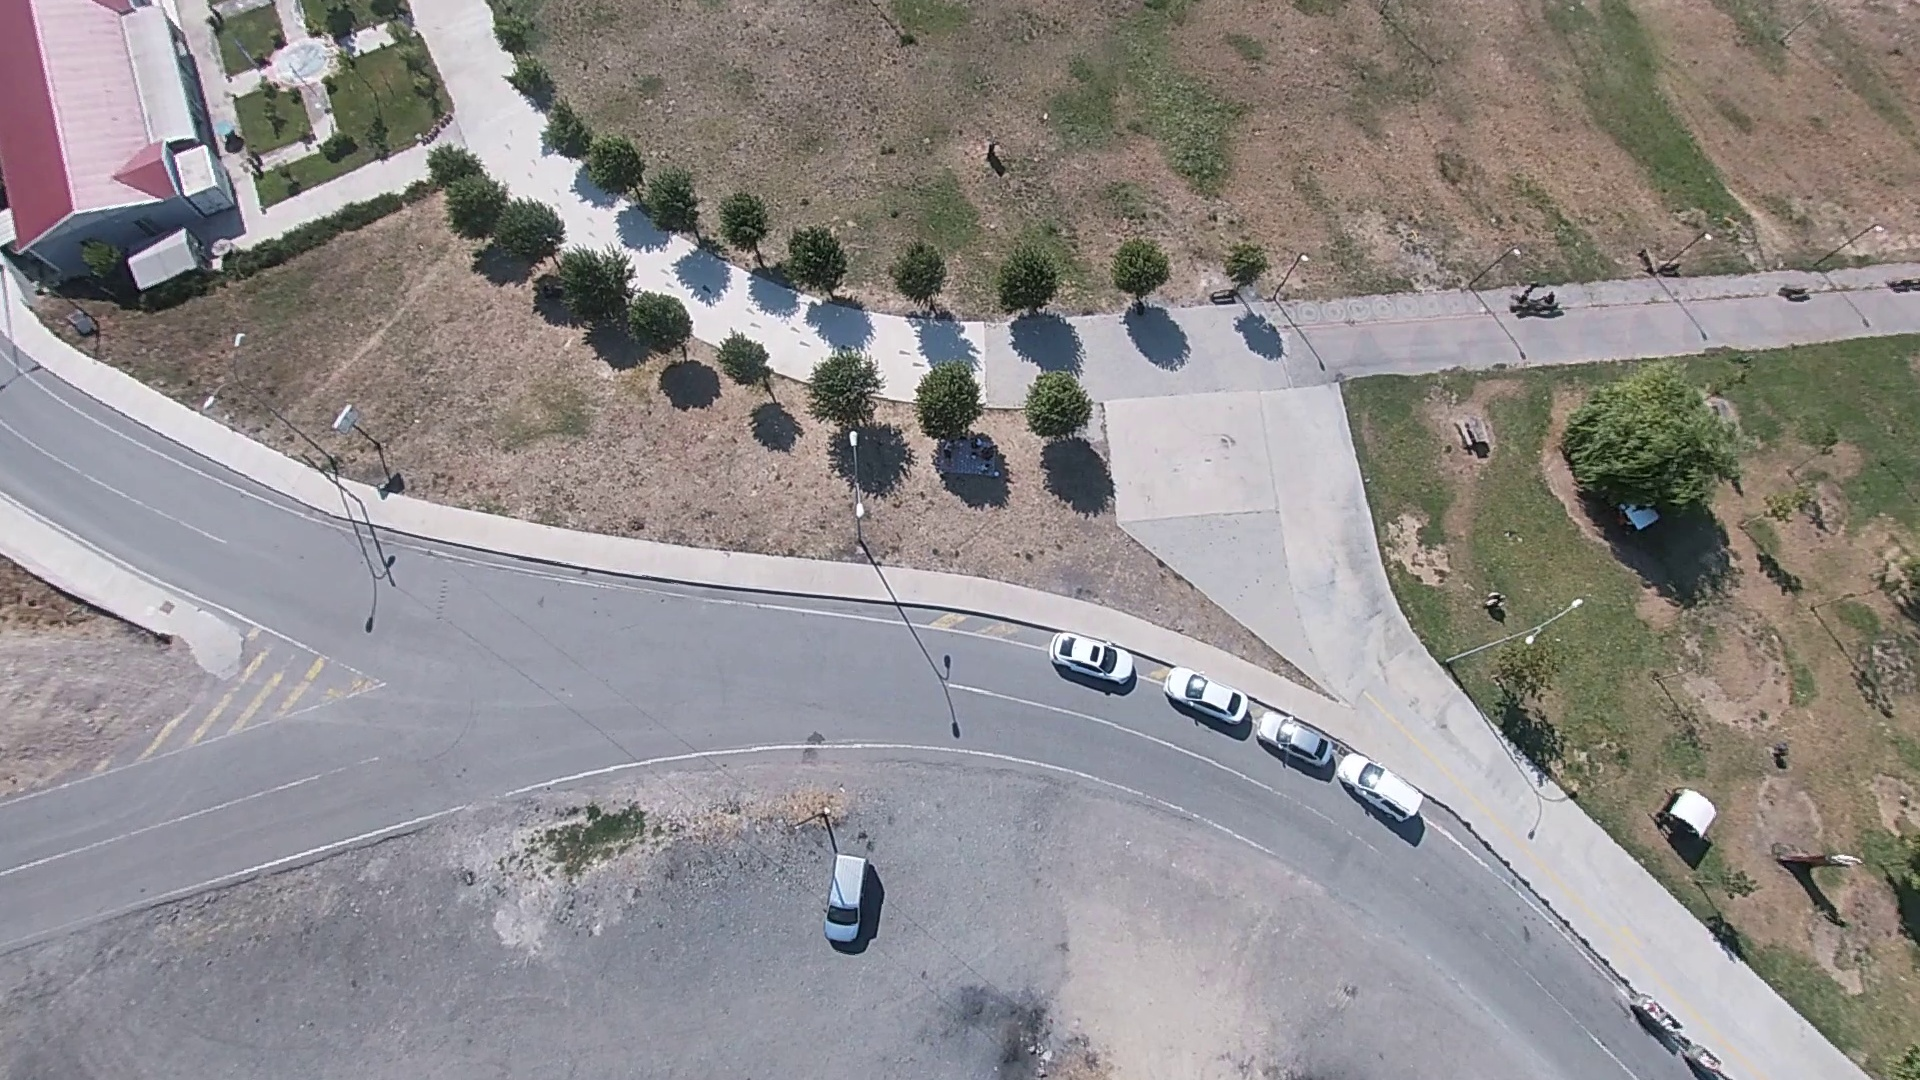arac: (1161, 670, 1442, 835), (1044, 626, 1141, 698), (822, 846, 872, 949)
insan: (1617, 499, 1660, 535), (1481, 590, 1507, 628), (982, 139, 1003, 179)
